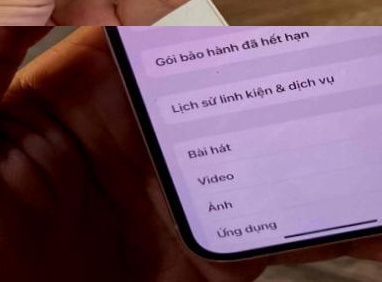screen_defect: (340, 161, 382, 232)
